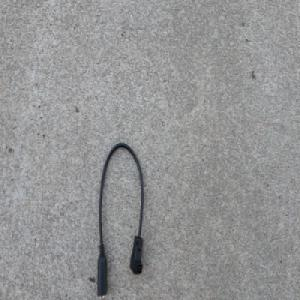Wire: (95, 140, 145, 300)
